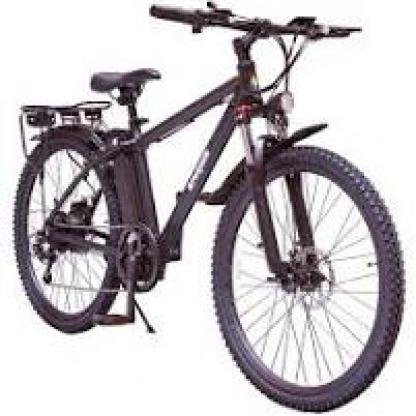Bike: (4, 0, 416, 416)
